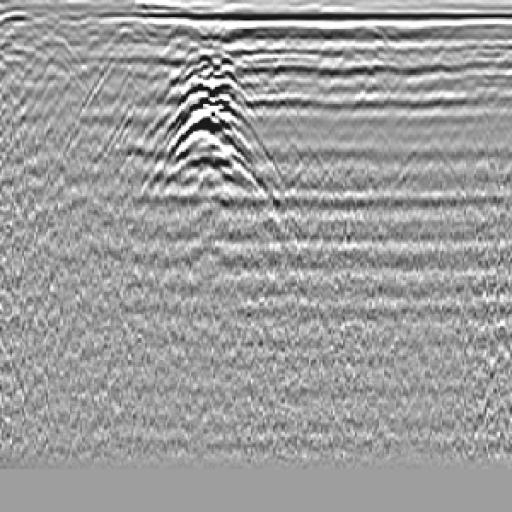metalic: (118, 40, 309, 242)
